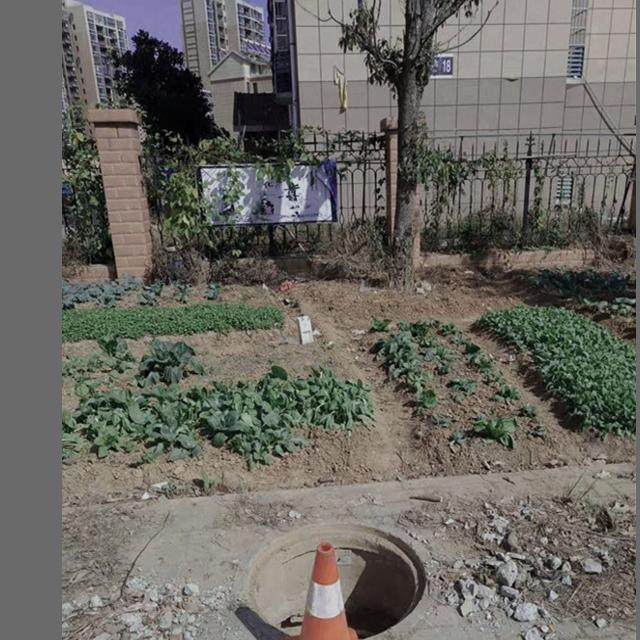lose: (233, 514, 435, 640)
